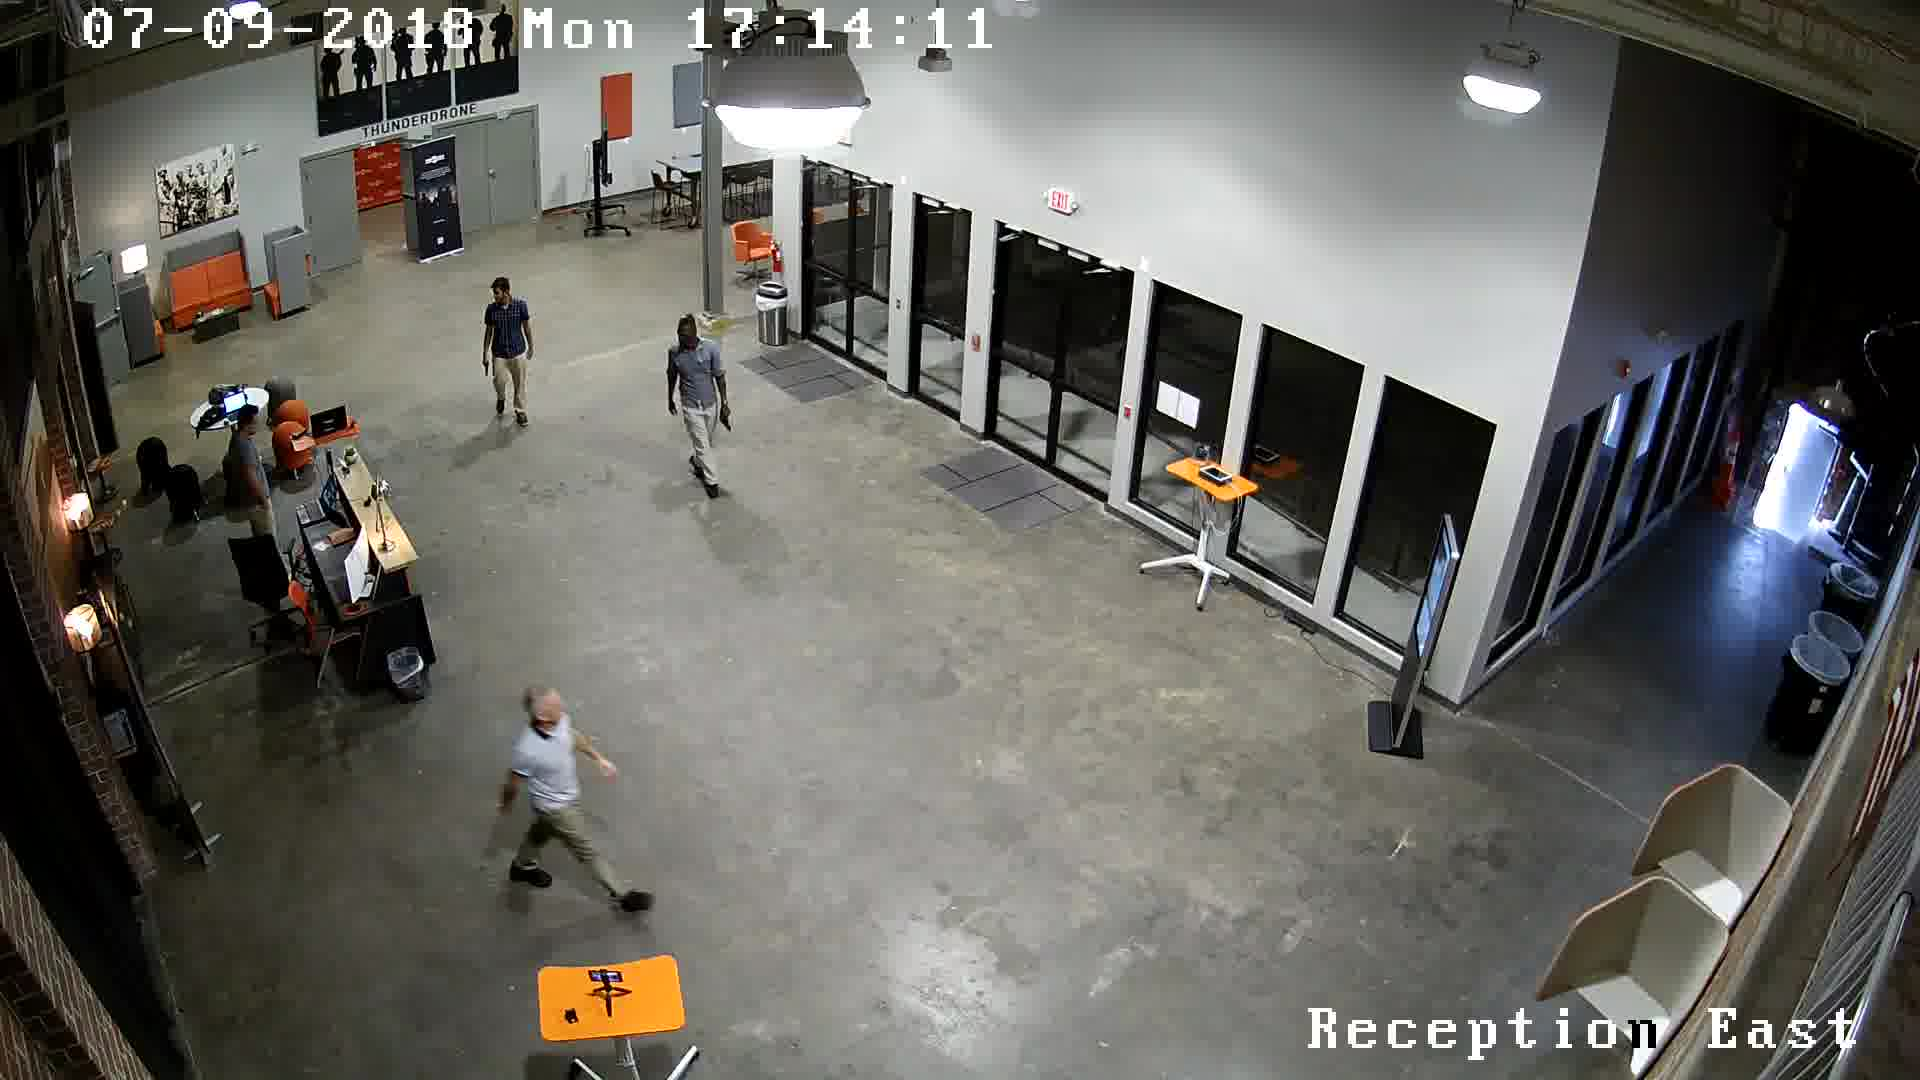pistol: (716, 398, 744, 440), (475, 356, 495, 384)
